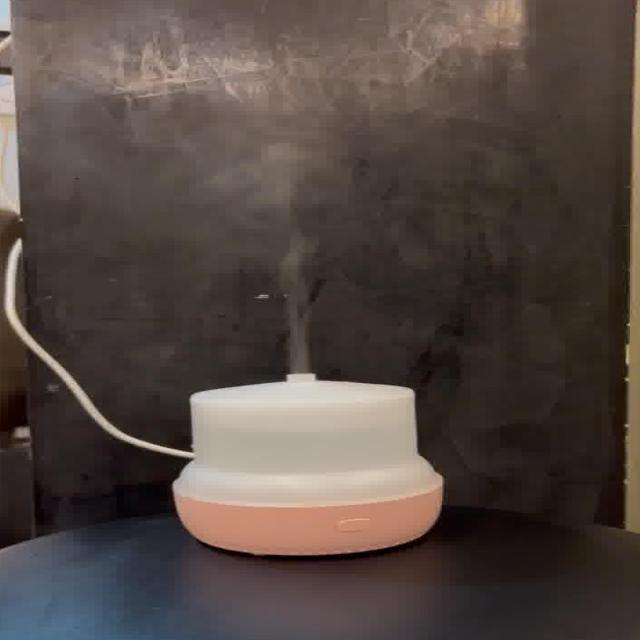fire: (188, 107, 331, 372)
